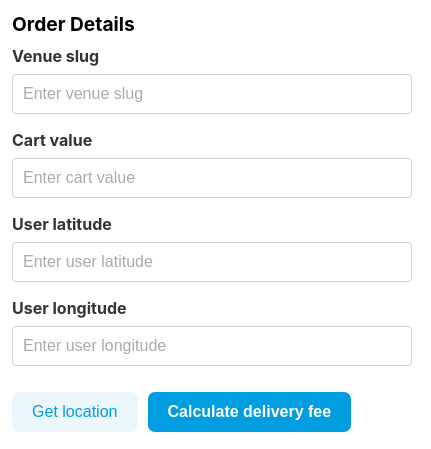
Scenario: OrderDetailsForm › should show a specific validation feedback when cart value input is 0
In the number field with placeholder "Enter cart value": (212, 178) [12,158,412,198], type "0"
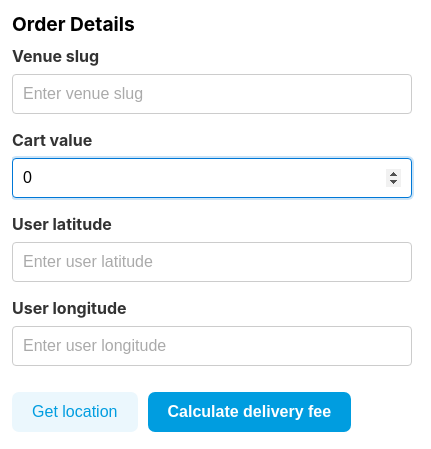
Click the button "Calculate delivery fee": click(249, 412) [148,392,351,432]
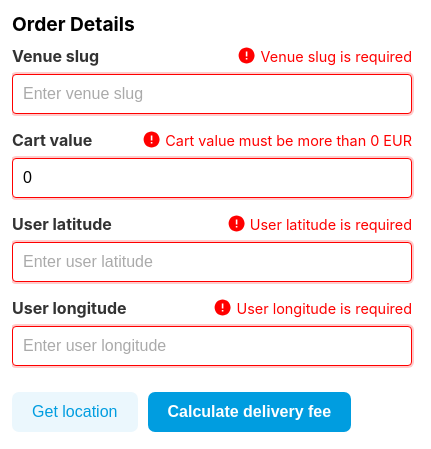
Now the text "Cart value must be more than 0 EUR" is shown, box [142,130,412,150]
